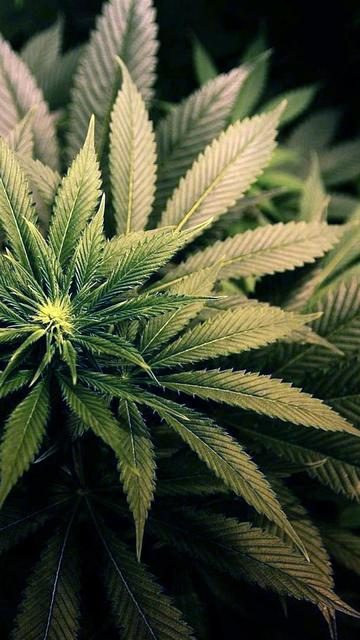Marijuana Plant: (36, 33, 288, 638), (37, 33, 288, 570)
